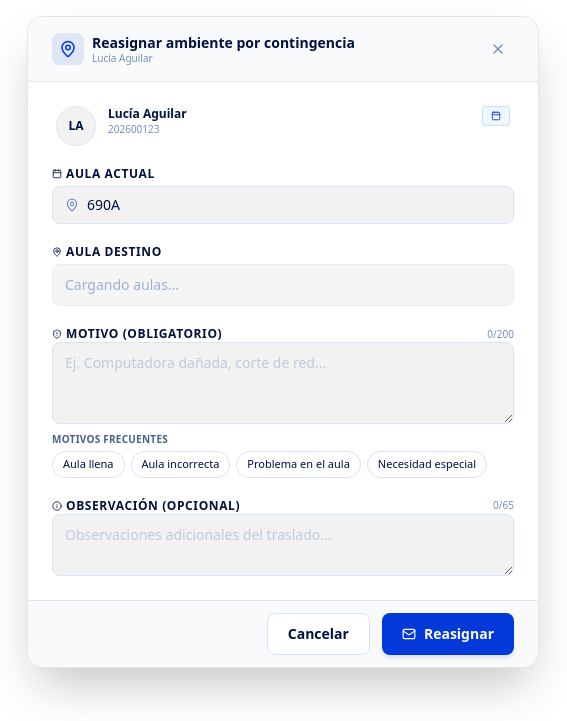
IMP-14 y sección 24: el motivo del traslado sigue la regla de la expulsión y ofrece motivos frecuentes
The width and height of the screenshot is (567, 721).
Step 1. Select "690B" in the dropdown → (283, 285), box top-left (52, 264), bottom-right (514, 306)
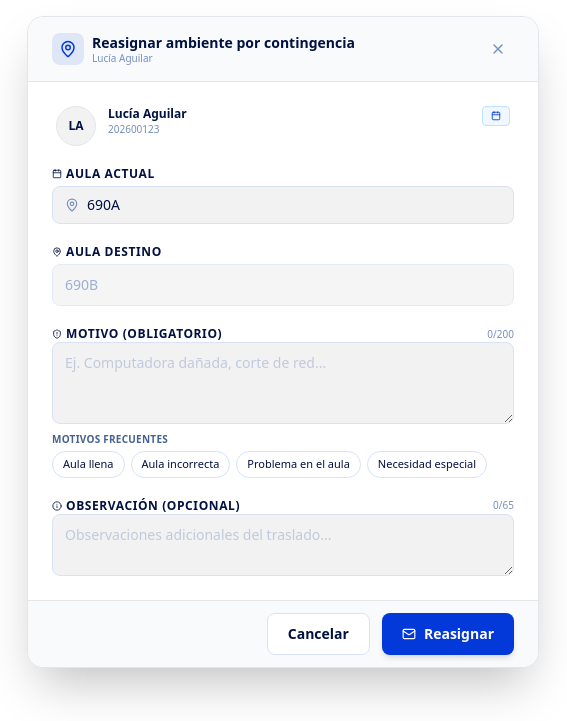
Step 2. Type "  AULA   690A LLENA, PASA CON SU CI  " into the text box with placeholder "Ej. Computadora dañada, corte de red..." → (283, 383), box top-left (52, 342), bottom-right (514, 424)
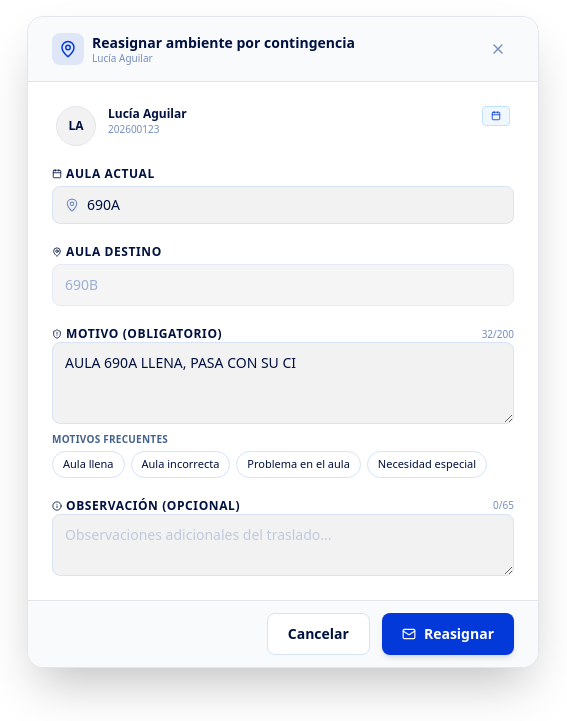
Step 3. Leave the 1st text box, box top-left (52, 342), bottom-right (514, 424)
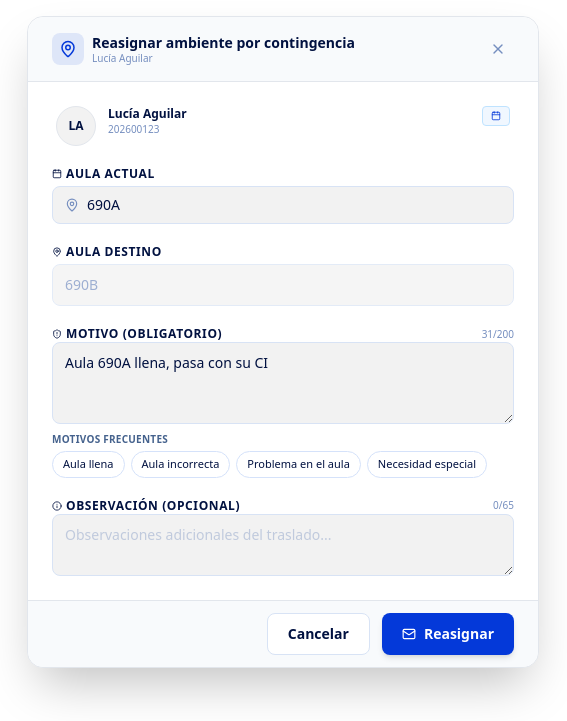
Step 4. Replace the text in the 1st text box with "Necesidad lingüística del estudiante" → (283, 383), box top-left (52, 342), bottom-right (514, 424)
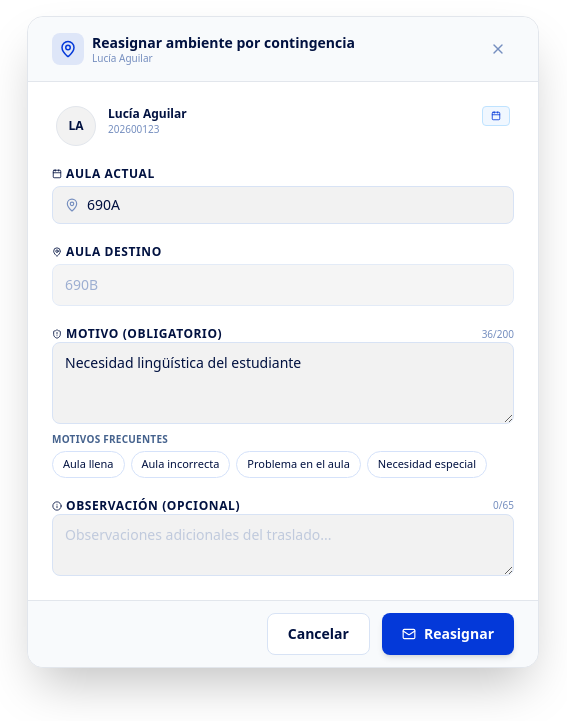
Step 5. Click the button "Aula llena" → (88, 465), box top-left (52, 451), bottom-right (124, 478)
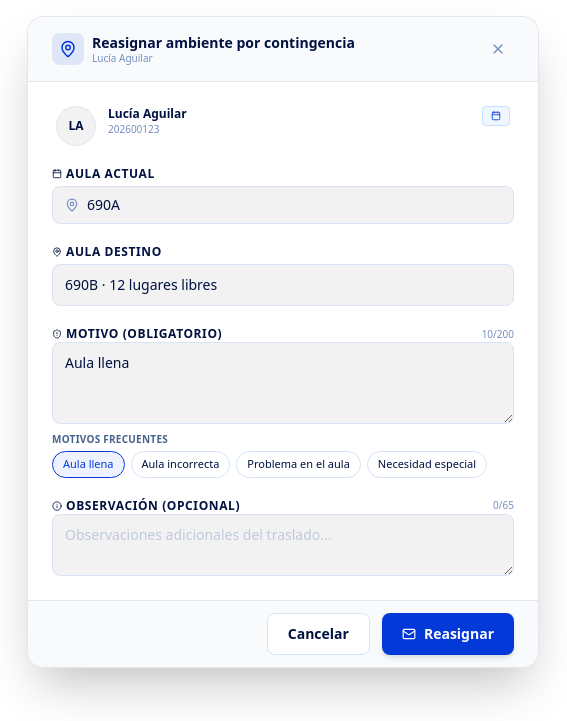
Result: the 1st text box holds "Aula llena" at top-left (52, 342), bottom-right (514, 424)
